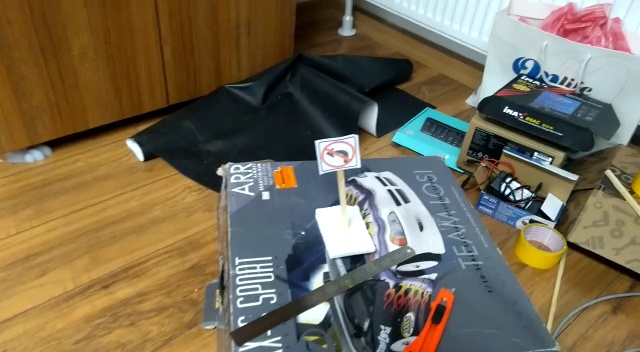sola_donulmez: (319, 137, 356, 170)
